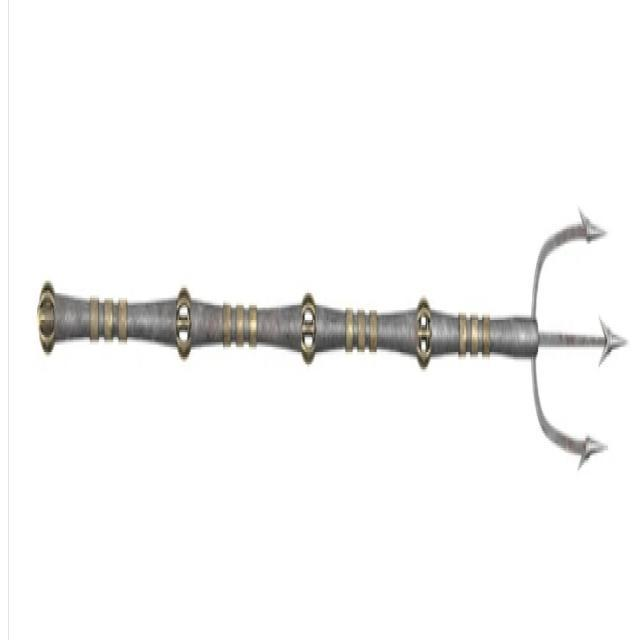spear: (35, 161, 635, 507)
